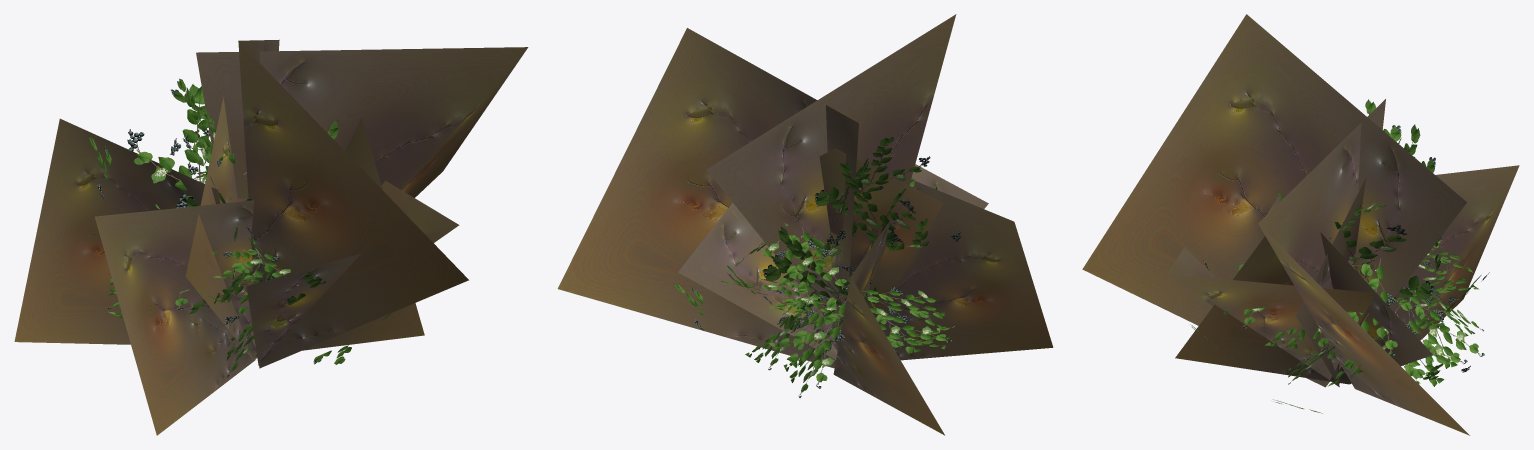
File: hartriegel.DAE
The picture shows the model from 3 angles, left to right: view 1: azimuth 30°, elevation 25°; view 2: azimuth 150°, elevation 25°; view 3: azimuth 270°, elevation 25°; orthographic projection. The views are drawn at different scales.
Visible parts, largest first — view 1: _lod1; view 2: _lod1; view 3: _lod1.
Part boxes in pixels (box(x1,y1,x2,y2)): _lod1: box(14, 39, 528, 435); _lod1: box(557, 14, 1053, 435); _lod1: box(1082, 14, 1519, 435).
Bounding box in the file's own units: 353 × 336 × 316.
